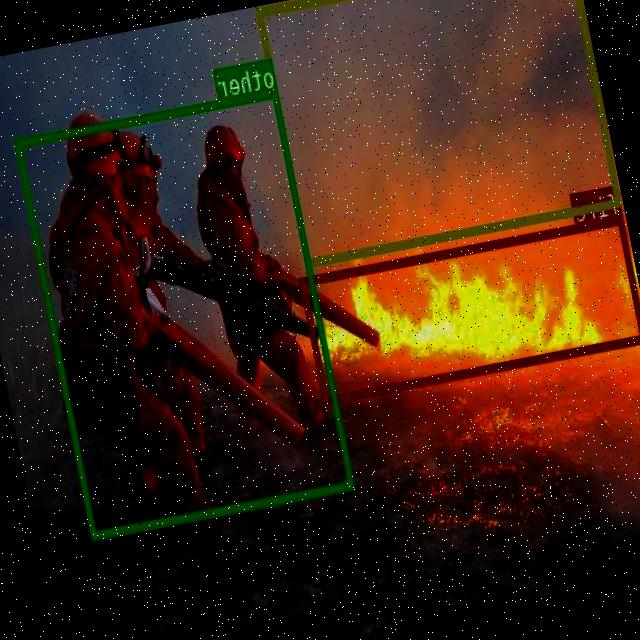fire: (300, 214, 640, 404)
smoke: (258, 0, 622, 265)
